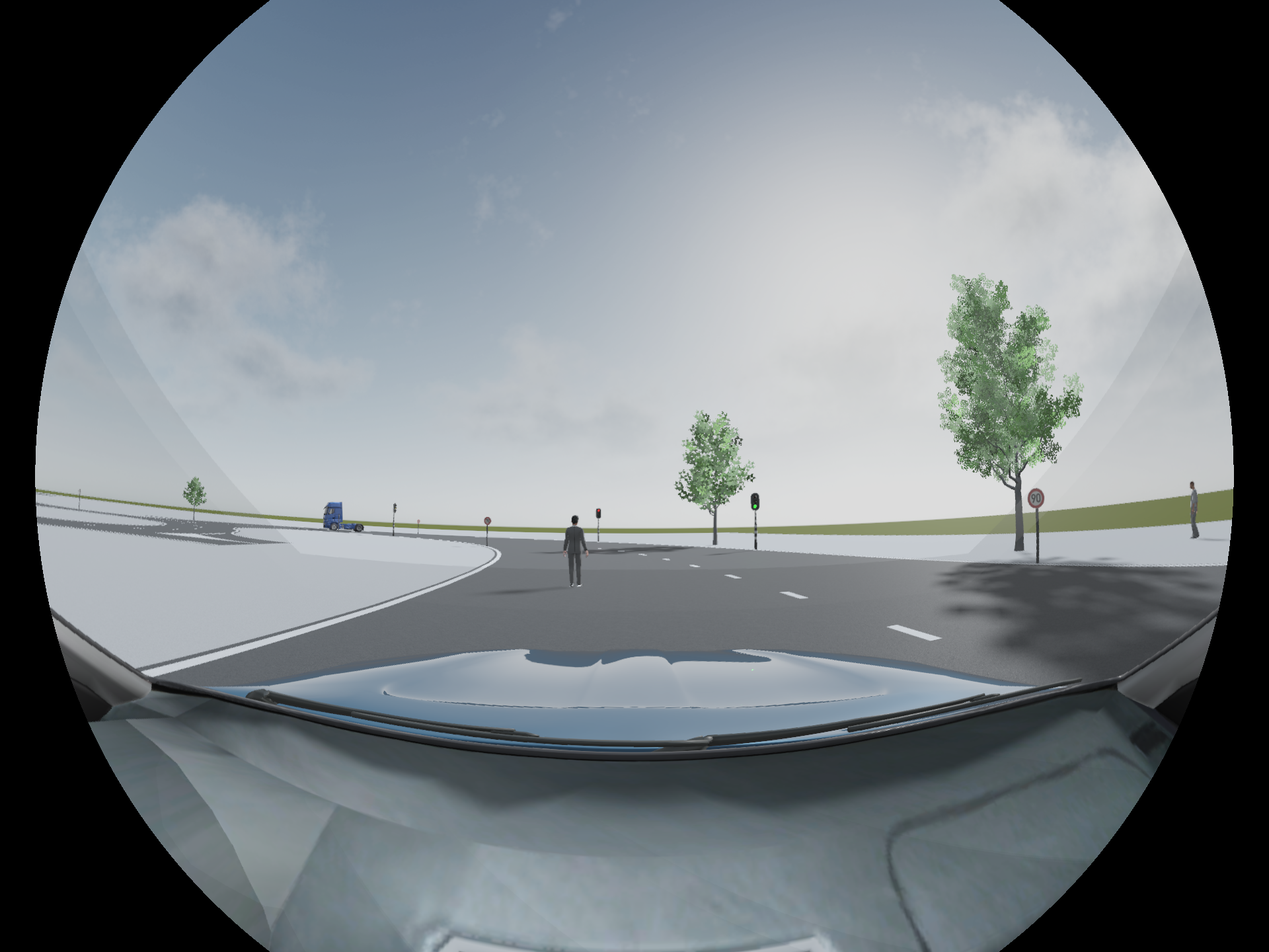Green Light: (750, 493, 760, 512)
Red Light: (594, 507, 601, 518)
Speed Limit 90: (1027, 488, 1045, 509)
